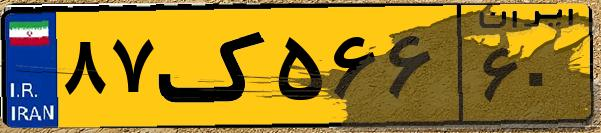0: (525, 38, 570, 115)
5: (270, 28, 330, 110)
6: (385, 28, 445, 110), (330, 28, 385, 110), (475, 38, 525, 113)
7: (110, 28, 158, 98)
8: (57, 26, 110, 100)
ک: (158, 12, 270, 120)
